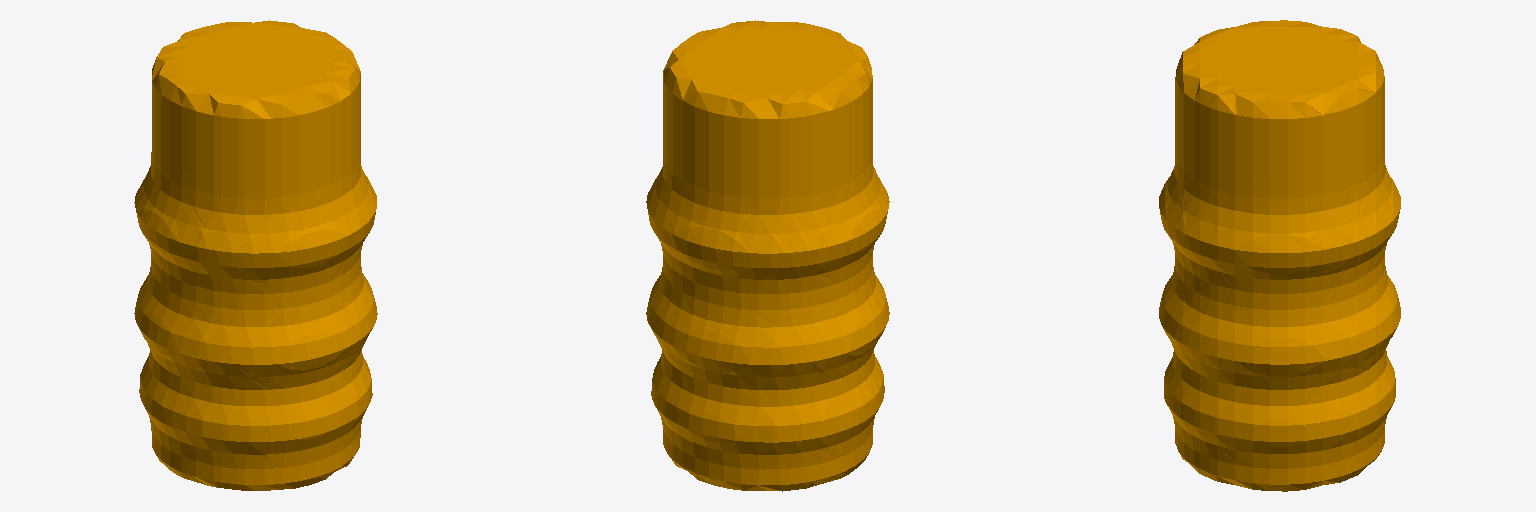
The robot description file, URDF, robot "cylinder_../../meshes/cylinders/cylinder_186.stl":
<?xml version="1.0" encoding="utf-8"?>  <robot name="cylinder_../../meshes/cylinders/cylinder_186.stl">   <link name="cylinder_../../meshes/cylinders/cylinder_186.stl">     <visual>       <geometry>         <mesh filename="../meshes/cylinders/cylinder_186.stl" scale="1 1 1"/>       </geometry>     </visual>     <collision>       <geometry>         <mesh filename="../meshes/cylinders/cylinder_186.stl" scale="1 1 1"/>       </geometry>     </collision>     <inertial>        <origin         xyz="0 0 0"         rpy="0 0 0" />       <mass value="0.3742957882935146"/>       <origin rpy="0 0 0" xyz="0 0 0"/>       <inertia ixx="0.0005400297801049839" ixy="-1.622380650940015e-08" ixz="3.107908755270963e-08" iyy="0.0005400322619918859" iyz="3.990331527304717e-08" izz="0.00018292762602854605"/>     </inertial>   </link>  </robot>

--- Facts derived from the render (not from the file) ---
Views: 3 orthographic renders of the robot side by side, from view 1: azimuth 30°, elevation 25°; view 2: azimuth 150°, elevation 25°; view 3: azimuth 270°, elevation 25°.
Model cylinder_../../meshes/cylinders/cylinder_186.stl with 1 links and 0 joints (none), rooted at cylinder_../../meshes/cylinders/cylinder_186.stl, posed all joints at 0.
Visible links, largest first — view 1: cylinder_../../meshes/cylinders/cylinder_186.stl; view 2: cylinder_../../meshes/cylinders/cylinder_186.stl; view 3: cylinder_../../meshes/cylinders/cylinder_186.stl.
Link boxes in pixels (left/top/right/bottom): cylinder_../../meshes/cylinders/cylinder_186.stl: left=134, top=20, right=377, bottom=490; cylinder_../../meshes/cylinders/cylinder_186.stl: left=646, top=20, right=889, bottom=491; cylinder_../../meshes/cylinders/cylinder_186.stl: left=1159, top=20, right=1400, bottom=491.
Size in the robot's own frame: 0.0692 by 0.0692 by 0.1234 metres.
1 mesh visuals loaded from 1 distinct referenced files (1 binary STL).